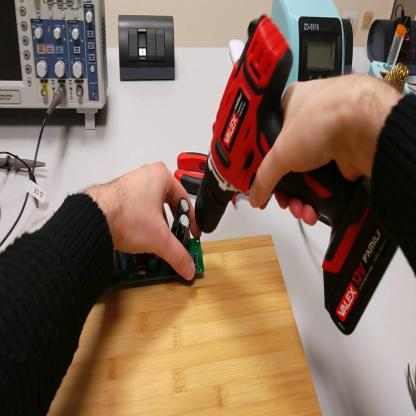electric screwdriver: (196, 15, 399, 336)
hand: (249, 73, 373, 221), (98, 162, 202, 279)
high voltage board: (98, 198, 207, 284)
oscilloscope: (2, 3, 107, 131)
oscilloscope probe tip: (2, 154, 46, 176)
pliers: (175, 150, 246, 209), (409, 356, 416, 404)
socket: (368, 18, 416, 68), (341, 15, 354, 75)
welder base: (371, 24, 412, 95)
welder station: (272, 2, 346, 88)
working area: (47, 233, 324, 416)
